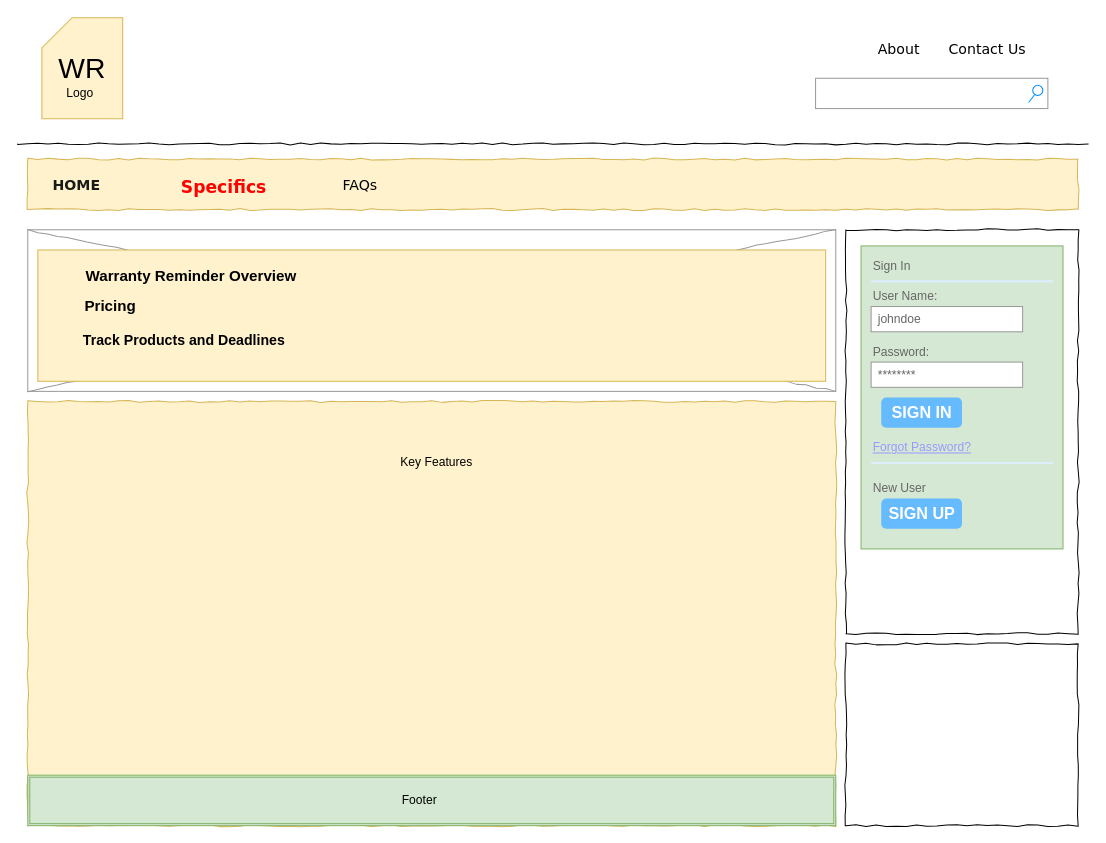
Some shapes in this 1106 by 843 pixel diagram are drawn without their labels. Each missing label, with the centre of its shape:
Ads / External Links: point (961, 734)
Search: point (931, 93)
